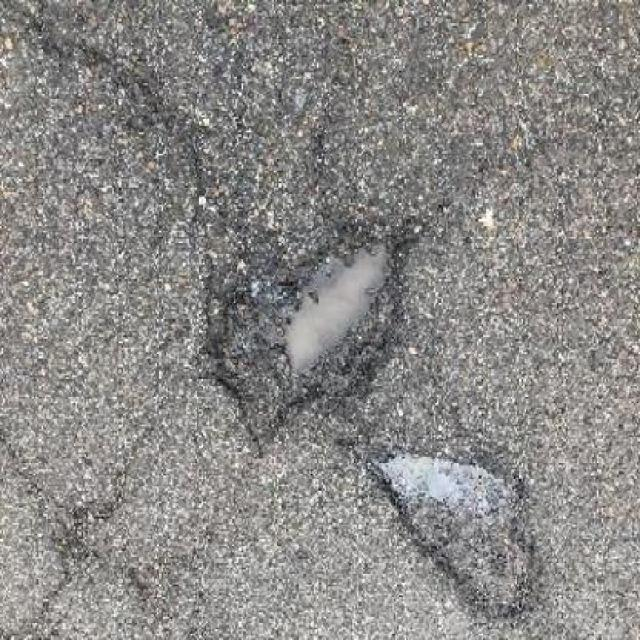pothole: (200, 218, 422, 460), (368, 448, 549, 628)
